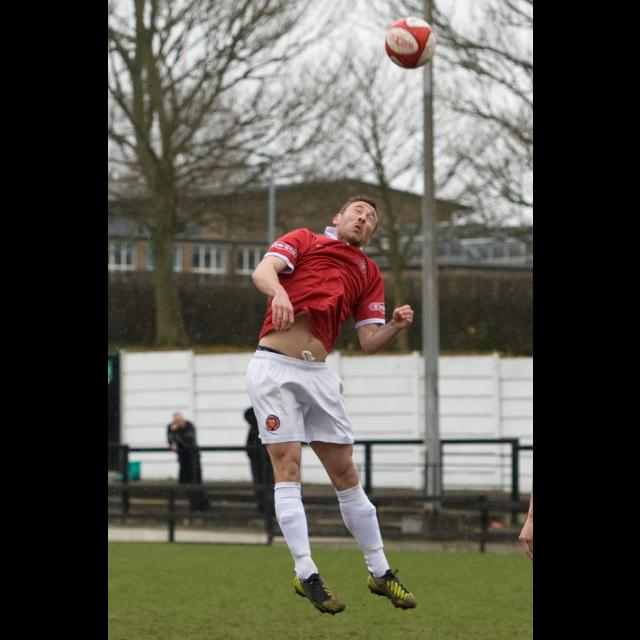Football: (384, 16, 438, 68)
